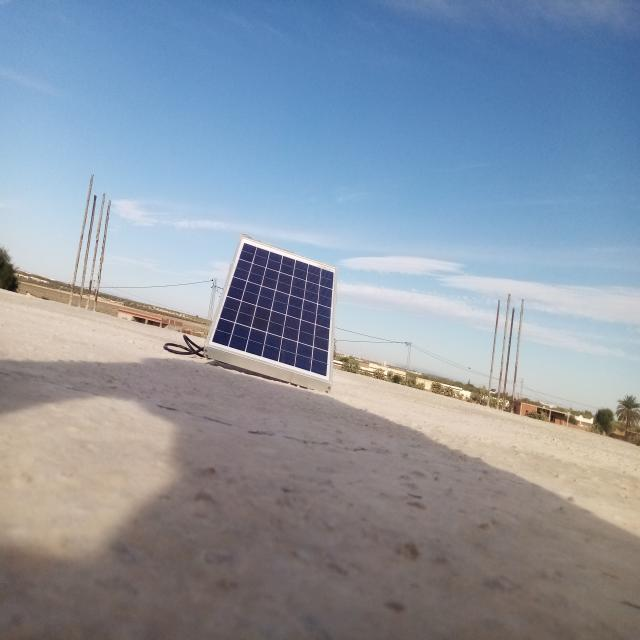no faulty: (206, 234, 337, 385)
